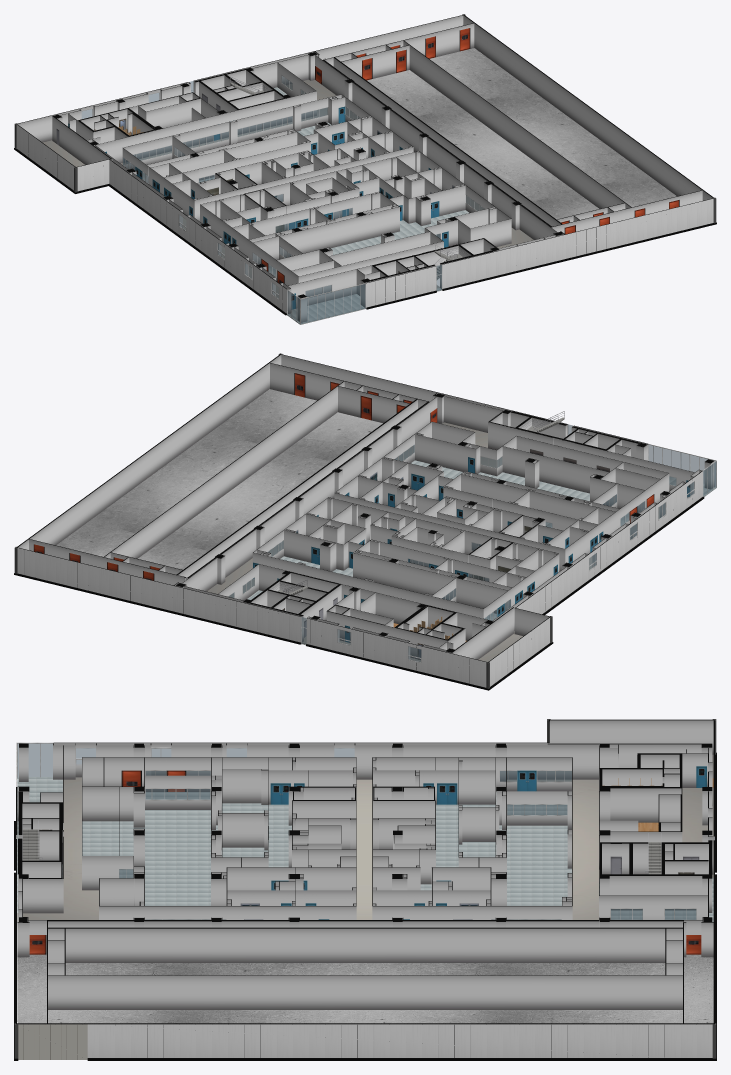
3 views of the same model, one above another, from view 1: azimuth 30°, elevation 25°; view 2: azimuth 150°, elevation 25°; view 3: azimuth 270°, elevation 25° (orthographic). The views are drawn at different scales.
Parts seen in each view (by area): view 1: W&FF-6F, Line1250, Rectangle1761, Rectangle1488, Line1257, Rectangle1397, Line792, Railing076; view 2: W&FF-6F, Line1250, Rectangle1761, Rectangle1488, Rectangle1397, Line792, Line1257, Railing076; view 3: W&FF-6F, Line1257, Line1250, Line792, Rectangle1761, Rectangle1397, Rectangle1488, Railing076.
Part boxes in pixels (x1=…): W&FF-6F: x1=14, y1=14, x2=716, y2=315; Line1250: x1=367, y1=48, x2=676, y2=219; Rectangle1761: x1=81, y1=75, x2=484, y2=324; Rectangle1488: x1=56, y1=28, x2=679, y2=309; Line1257: x1=143, y1=87, x2=468, y2=324; Rectangle1397: x1=52, y1=52, x2=563, y2=322; Line792: x1=42, y1=79, x2=533, y2=298; Railing076: x1=230, y1=76, x2=469, y2=288; W&FF-6F: x1=14, y1=353, x2=704, y2=690; Line1250: x1=56, y1=389, x2=382, y2=569; Rectangle1761: x1=228, y1=424, x2=716, y2=663; Rectangle1488: x1=33, y1=373, x2=690, y2=659; Rectangle1397: x1=175, y1=393, x2=714, y2=654; Line792: x1=207, y1=422, x2=688, y2=661; Line1257: x1=247, y1=460, x2=716, y2=620; Railing076: x1=271, y1=411, x2=564, y2=597; W&FF-6F: x1=14, y1=719, x2=716, y2=1060; Line1257: x1=17, y1=777, x2=713, y2=922; Line1250: x1=17, y1=954, x2=713, y2=1023; Line792: x1=17, y1=754, x2=713, y2=954; Rectangle1761: x1=16, y1=742, x2=714, y2=919; Rectangle1397: x1=19, y1=743, x2=712, y2=927; Rectangle1488: x1=29, y1=766, x2=706, y2=954; Railing076: x1=22, y1=820, x2=661, y2=874.
Size of the model in its own units: 67.25 by 5.64 by 65.25.
24 materials, 21 textured.
